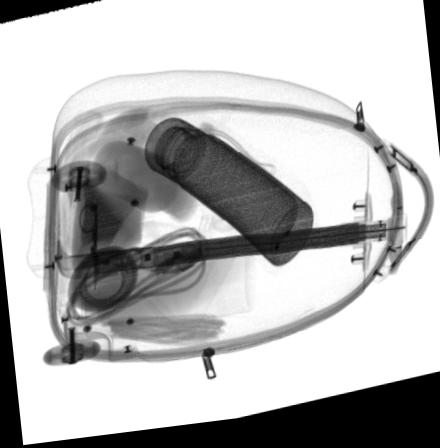Scissors: (71, 204, 144, 295)
